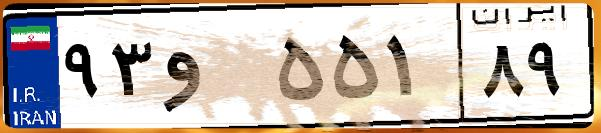1: (385, 28, 445, 110)
3: (110, 28, 158, 98)
5: (270, 28, 330, 110), (330, 28, 385, 110)
8: (475, 38, 525, 113)
9: (57, 26, 110, 100), (525, 38, 570, 115)
و: (158, 20, 270, 120)
